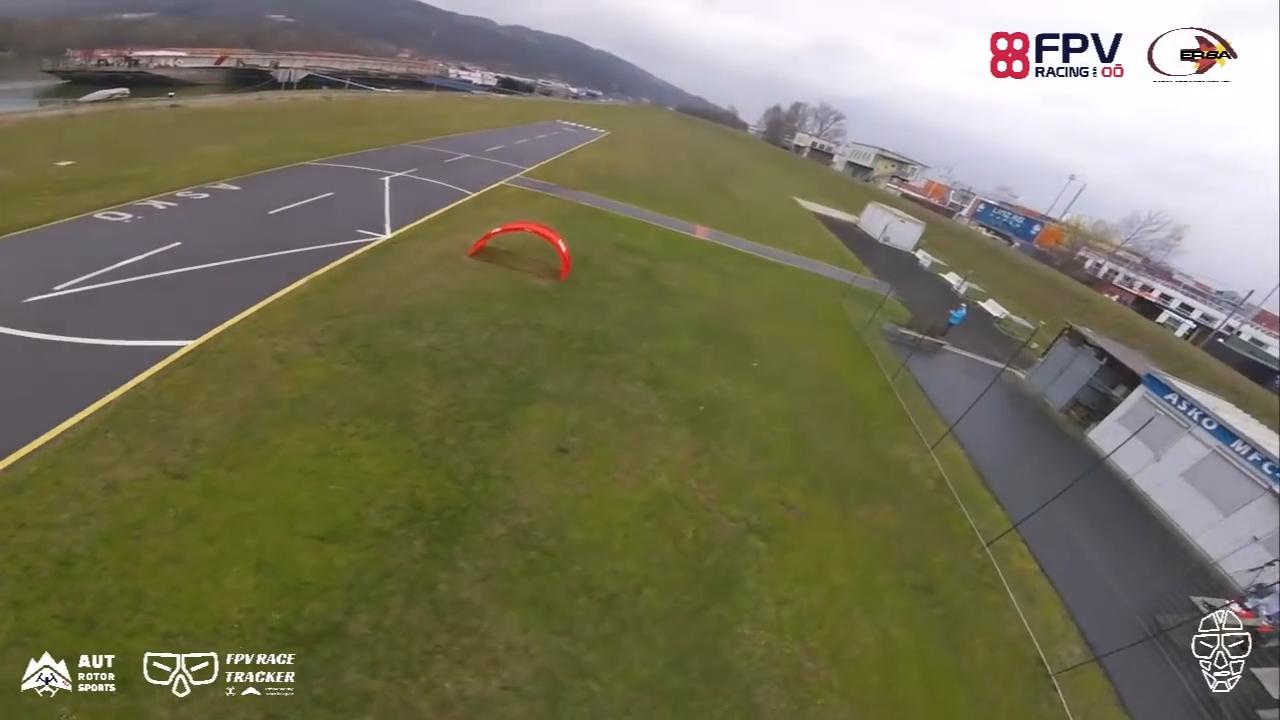gate: (465, 217, 571, 285)
